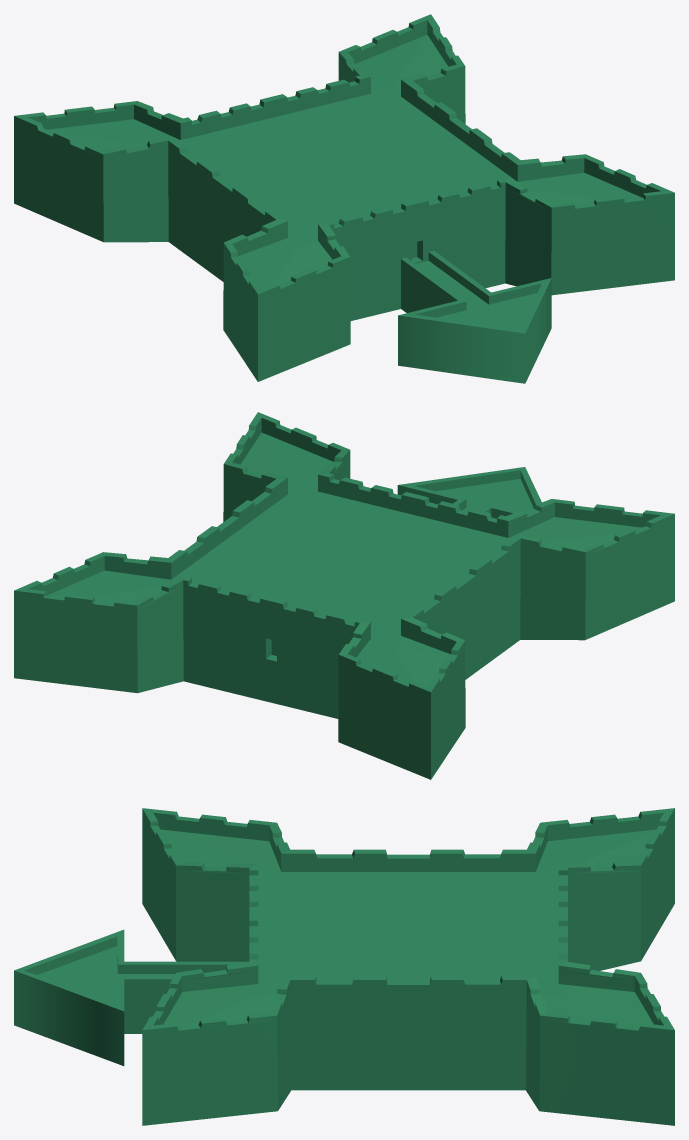
File: collab3.FBX
3 renders of one model, top to bottom at view 1: azimuth 30°, elevation 25°; view 2: azimuth 150°, elevation 25°; view 3: azimuth 270°, elevation 25°, orthographic. The views are drawn at different scales.
Parts seen in each view (by area): view 1: Box002; view 2: Box002; view 3: Box002.
Boxes of the visible parts, x1,y1,x2,y2 form: Box002: (14,14,674,383); Box002: (14,412,674,779); Box002: (14,808,674,1125).
Bounding box in the file's own units: 133 × 30.86 × 167.
